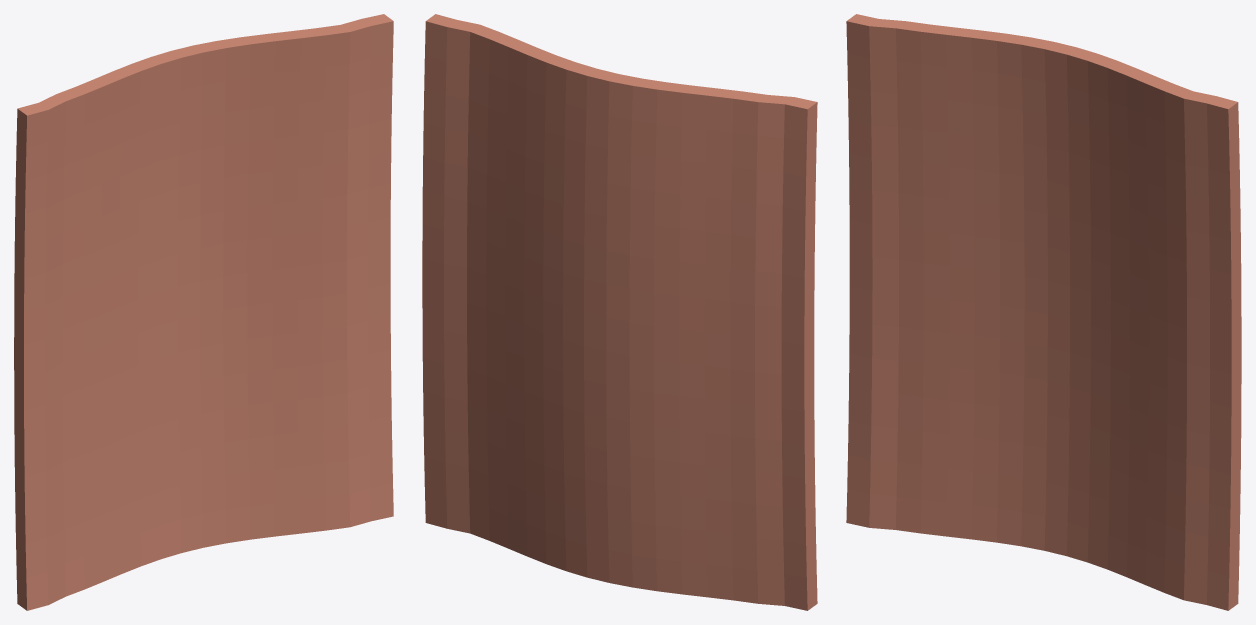
The model's file is reformpfanne.glb.
3 views of the same model, side by side, from view 1: azimuth 30°, elevation 25°; view 2: azimuth 150°, elevation 25°; view 3: azimuth 330°, elevation 25° (orthographic).
Visible parts, largest first — view 1: world; view 2: world; view 3: world.
Boxes of the visible parts, <box> form: world: <box>14,14,393,610</box>; world: <box>422,14,817,610</box>; world: <box>846,14,1241,610</box>.
Size of the model in its own units: 0.33 by 0.42 by 0.0517.
